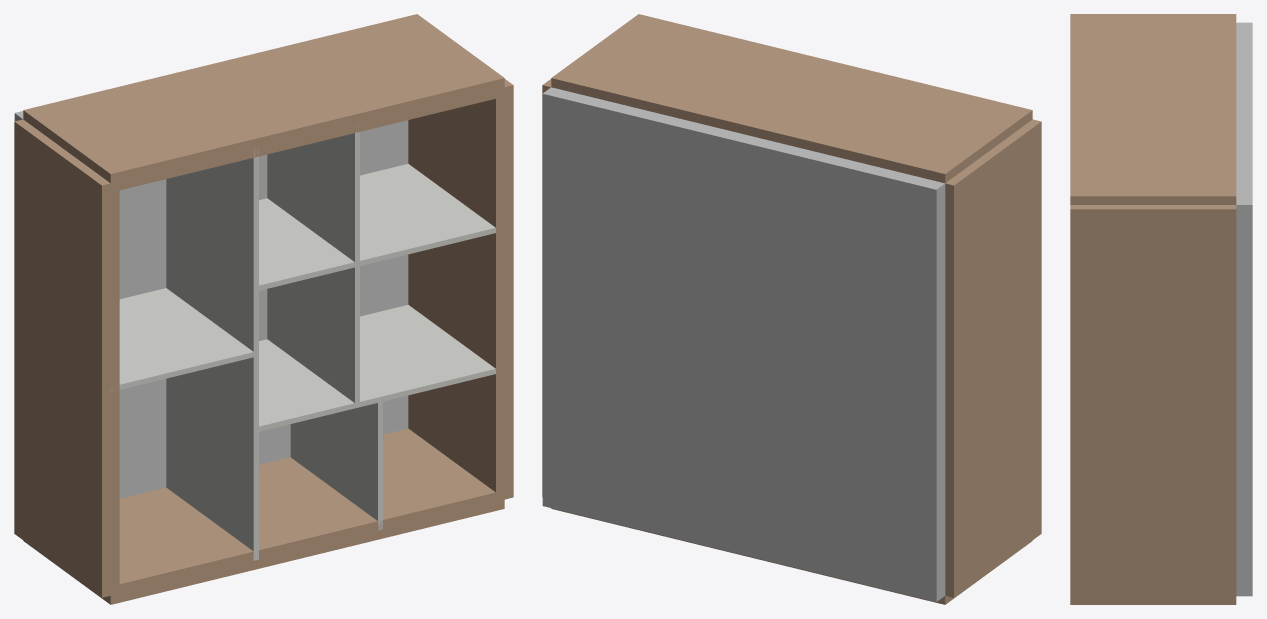
3 views of the same model, side by side, from view 1: azimuth 30°, elevation 25°; view 2: azimuth 150°, elevation 25°; view 3: azimuth 270°, elevation 25° (orthographic). The views are drawn at different scales.
Visible parts, largest first — view 1: wall_3, wall_2, wall_1, wall_0, floor_slab, wall_4, wall_12, wall_15, wall_5, wall_10, wall_7, wall_9 (+5 smaller); view 2: floor_slab, wall_3, wall_2, wall_0; view 3: wall_1, wall_2, floor_slab, wall_0.
Part boxes in pixels (box(x1,y1,x2,y2)): wall_3: box(14, 119, 119, 597); wall_2: box(23, 14, 504, 192); wall_1: box(408, 79, 513, 501); wall_0: box(23, 428, 504, 604); floor_slab: box(14, 111, 408, 498); wall_4: box(166, 353, 258, 560); wall_12: box(267, 265, 359, 404); wall_15: box(357, 163, 495, 266); wall_5: box(110, 288, 256, 391); wall_10: box(166, 147, 258, 289); wall_7: box(360, 304, 495, 401); wall_9: box(267, 124, 359, 261); floor_slab: box(542, 87, 945, 601); wall_3: box(945, 119, 1041, 597); wall_2: box(551, 14, 1032, 183); wall_0: box(551, 508, 1032, 604); wall_1: box(1070, 205, 1236, 600); wall_2: box(1070, 14, 1236, 204); floor_slab: box(1236, 22, 1252, 596); wall_0: box(1070, 600, 1236, 604).
Bounding box in the file's own units: 8.15 × 8.15 × 3.3.
